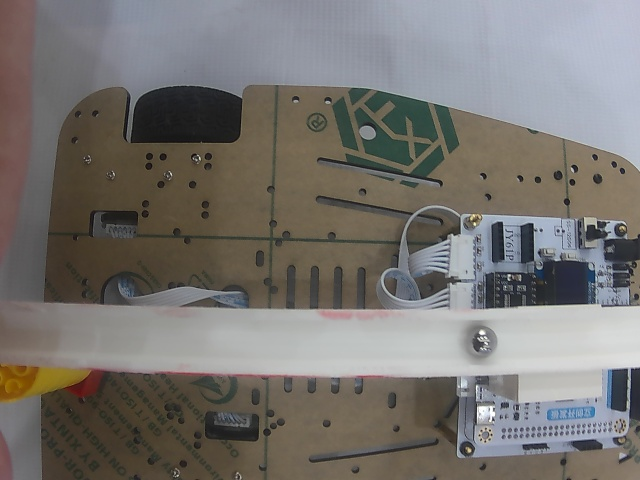steelball: (463, 324, 496, 358)
